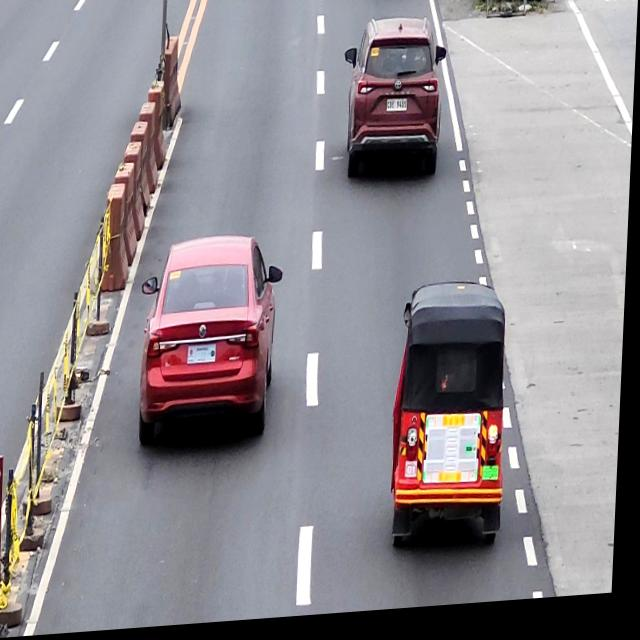Car: (140, 234, 287, 450), (341, 20, 450, 188)
E-bike: (392, 280, 516, 555)
License-Plate: (191, 348, 219, 370), (388, 103, 409, 118)
